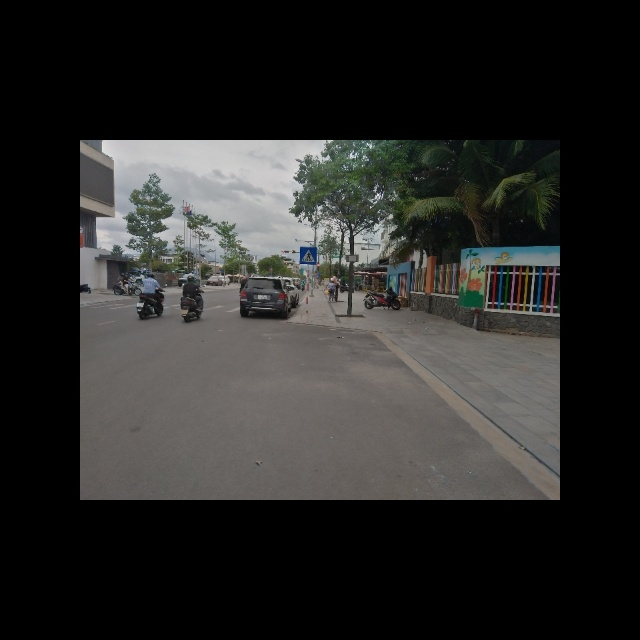Đường dành cho người đi bộ: (299, 246, 317, 265)
